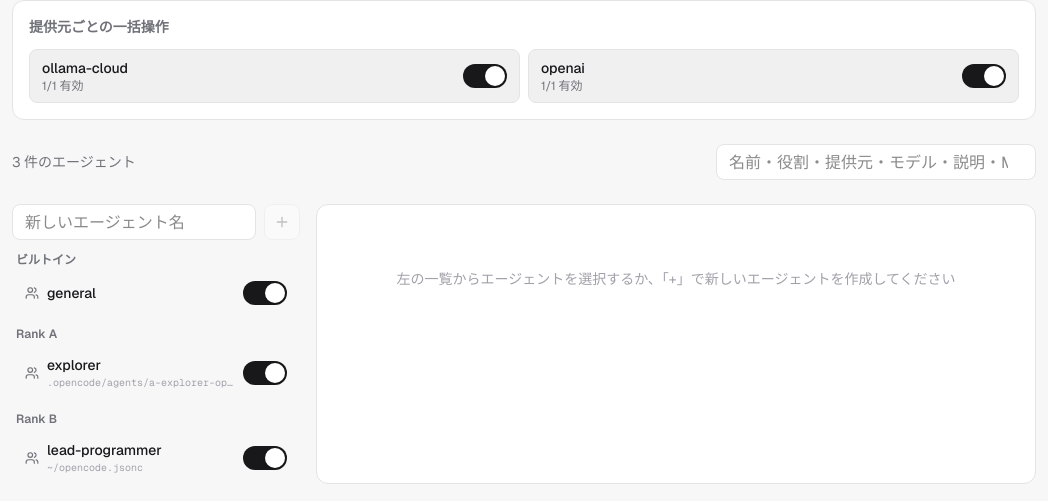
it: AgentsSettings › filters agents via the search box
Expected: the heading "Rank A" is shown, left=16, top=326, right=57, bottom=342
Type "explorer" into the search field named "エージェントを検索" at (876, 162), box left=716, top=144, right=1036, bottom=180
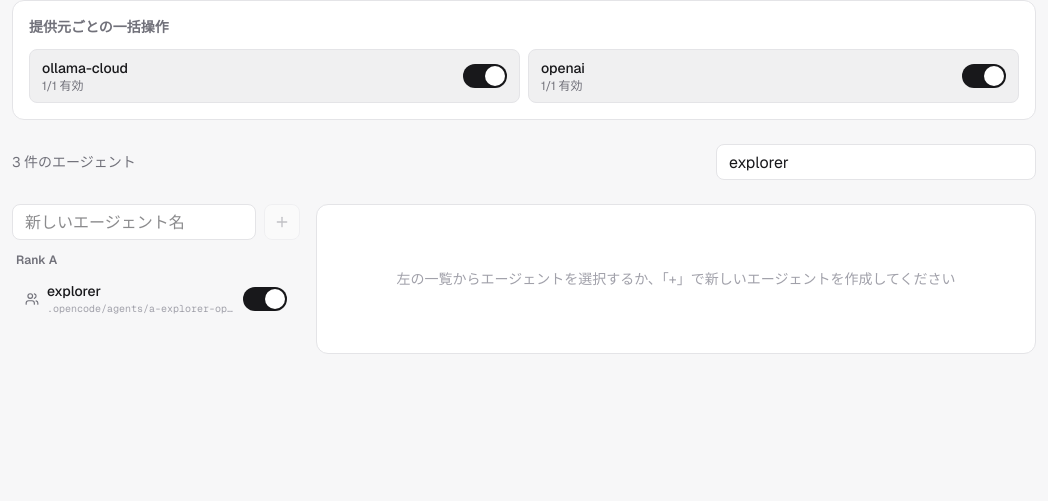
Expected: the heading "Rank A" is shown, left=16, top=252, right=57, bottom=268
Expected: the heading "Rank B" is gone
